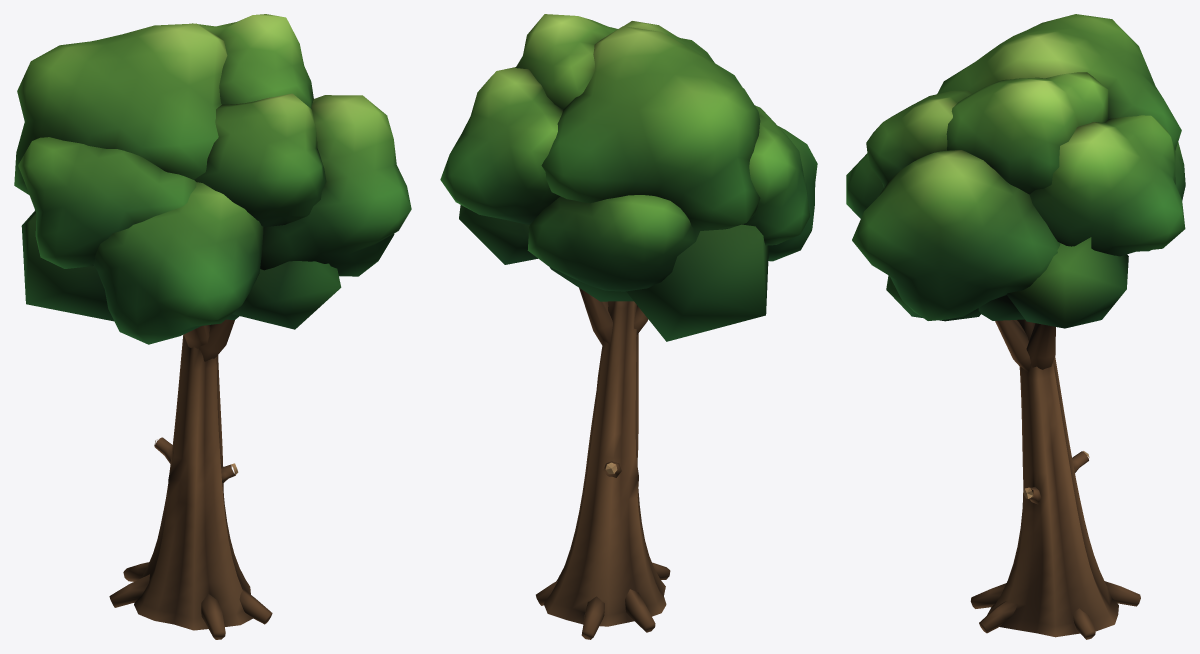
File: tree-standing-b-v3.glb
The picture shows the model from 3 angles, left to right: view 1: azimuth 30°, elevation 25°; view 2: azimuth 150°, elevation 25°; view 3: azimuth 270°, elevation 25°; orthographic projection. The views are drawn at different scales.
Parts seen in each view (by area): view 1: 1_leaves, 0_trunk; view 2: 1_leaves, 0_trunk; view 3: 1_leaves, 0_trunk.
Part boxes in pixels (box(x1,y1,x2,y2)): 1_leaves: box(14, 14, 411, 344); 0_trunk: box(109, 319, 272, 639); 1_leaves: box(440, 14, 817, 341); 0_trunk: box(536, 288, 670, 639); 1_leaves: box(846, 14, 1185, 328); 0_trunk: box(970, 319, 1140, 639).
Bounding box in the file's own units: 3.91 × 6.78 × 3.68.
